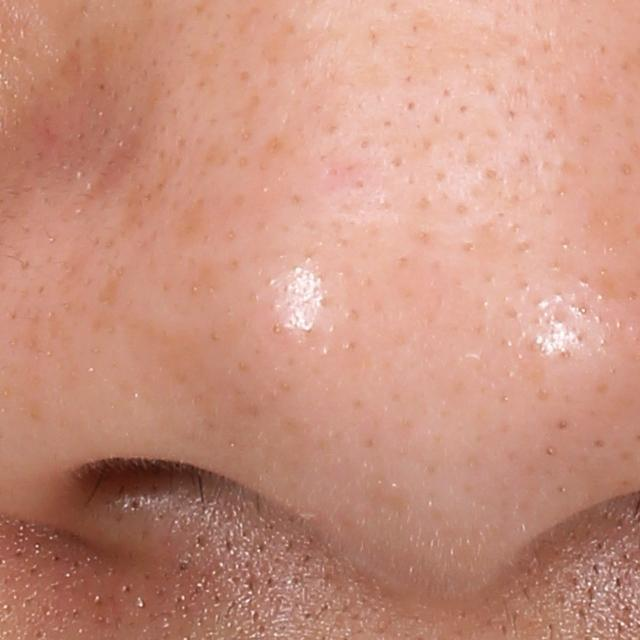melasma: (115, 148, 184, 244), (91, 266, 124, 316)
